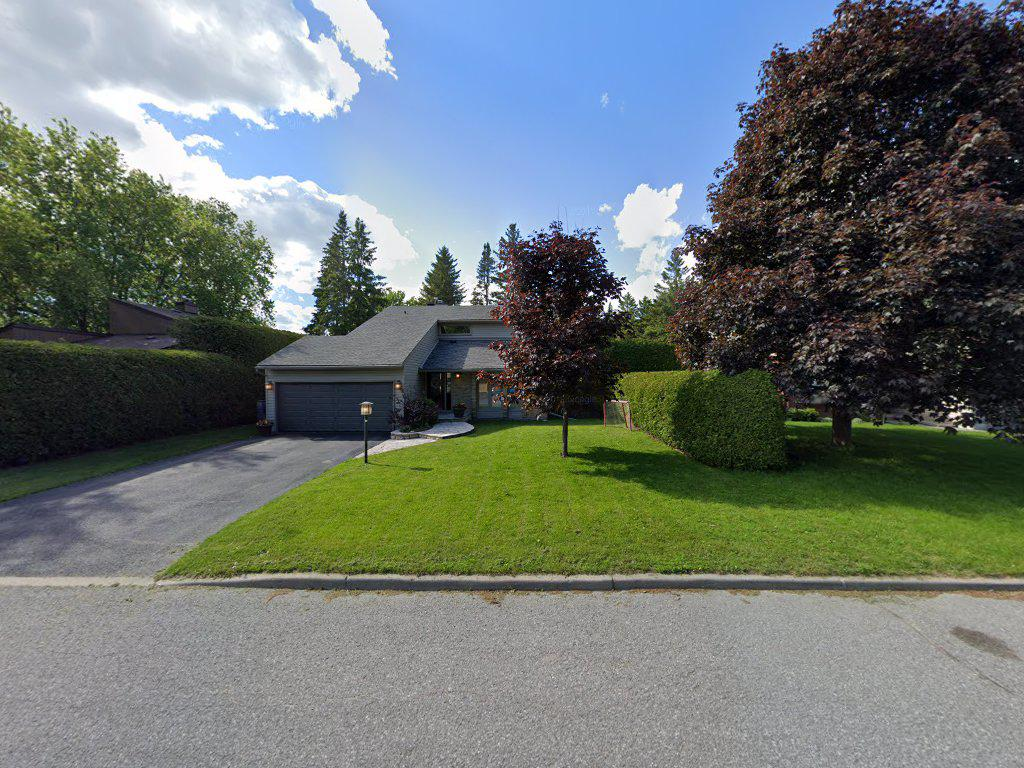trunk: (554, 406, 578, 464), (829, 408, 859, 446)
